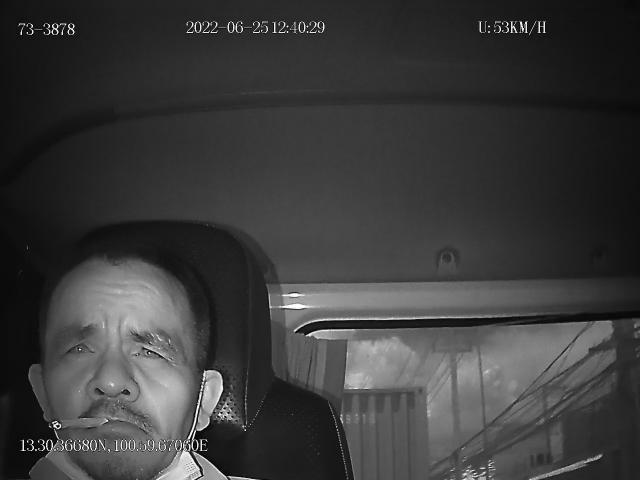SafeDriving: (126, 331, 174, 370), (58, 328, 101, 368)
Smoking: (49, 414, 109, 430)
